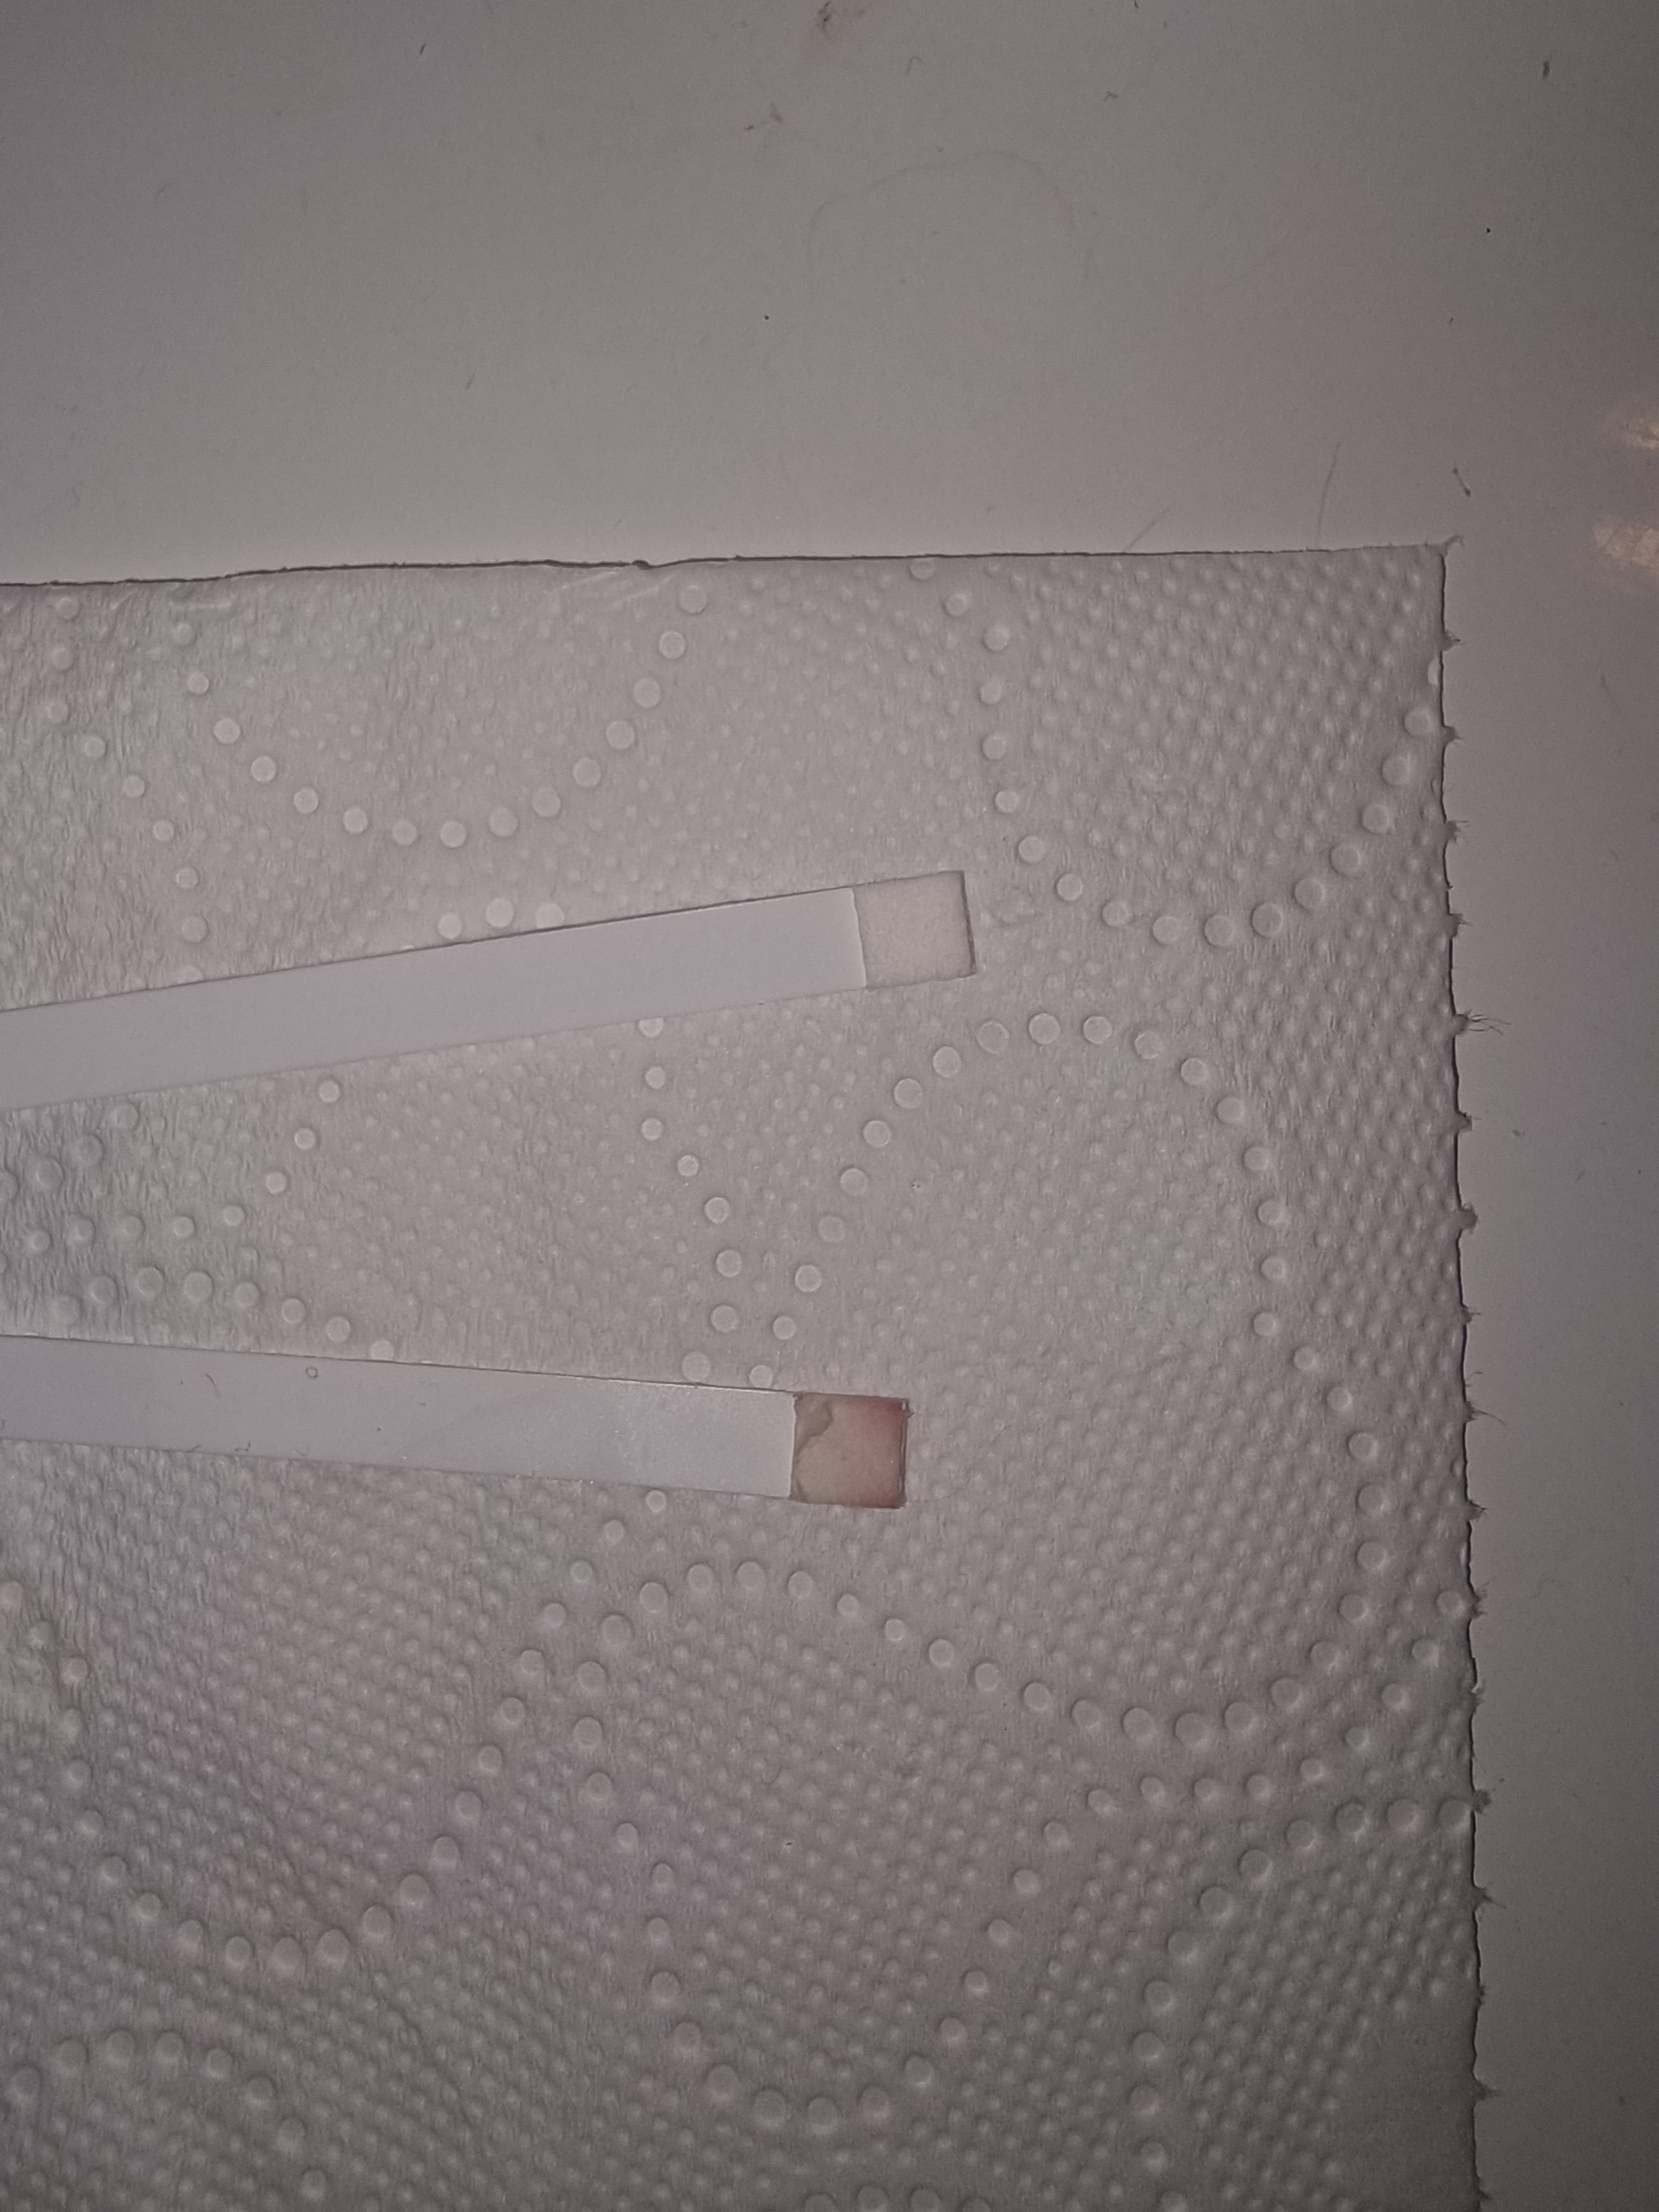keto-tip: (847, 864, 983, 996), (786, 1383, 917, 1519)
